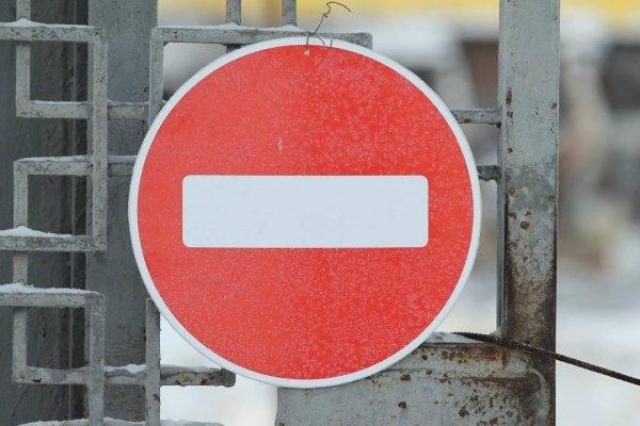B2: (138, 42, 478, 384)
